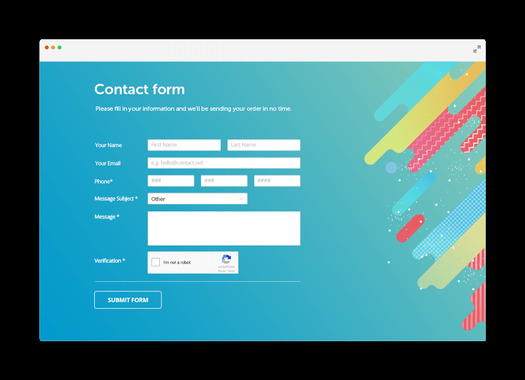_form_: (81, 72, 410, 328)
button: (92, 290, 163, 310)
checkbox: (150, 257, 162, 269)
checkbox_with_label: (149, 254, 192, 270)
field: (145, 211, 301, 247), (145, 157, 301, 170), (146, 138, 222, 153), (148, 193, 249, 204), (226, 139, 302, 152), (145, 175, 197, 189)
field_with_label: (93, 210, 303, 248), (94, 155, 304, 171), (94, 136, 224, 154), (94, 191, 250, 205), (93, 174, 198, 190)
